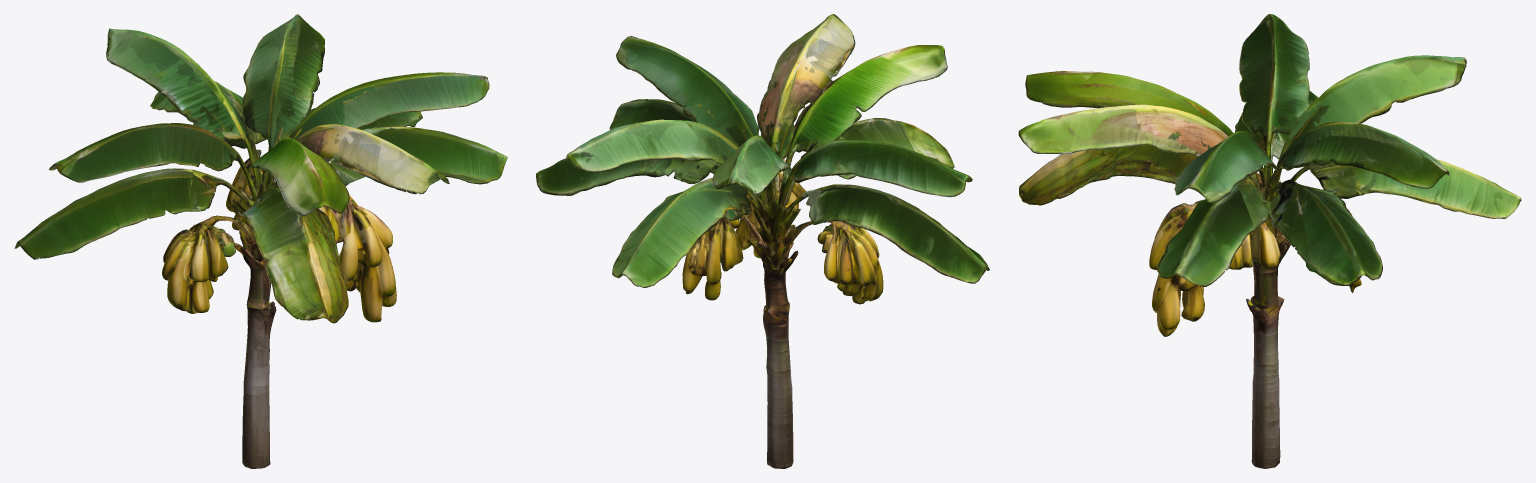
Rendered from banana.glb.
3 views of the same model, side by side, from view 1: azimuth 30°, elevation 25°; view 2: azimuth 150°, elevation 25°; view 3: azimuth 270°, elevation 25° (orthographic). The views are drawn at different scales.
Bounding box in the file's own units: 2 × 1.69 × 1.97.
1 material, 1 textured.
